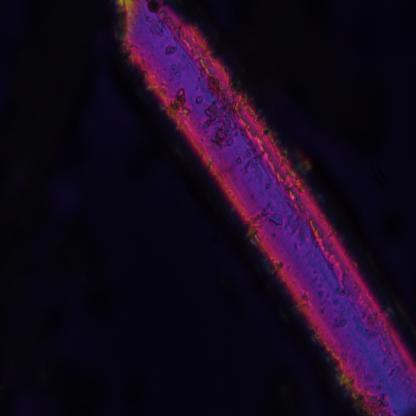Microfibre: (111, 0, 416, 413)
